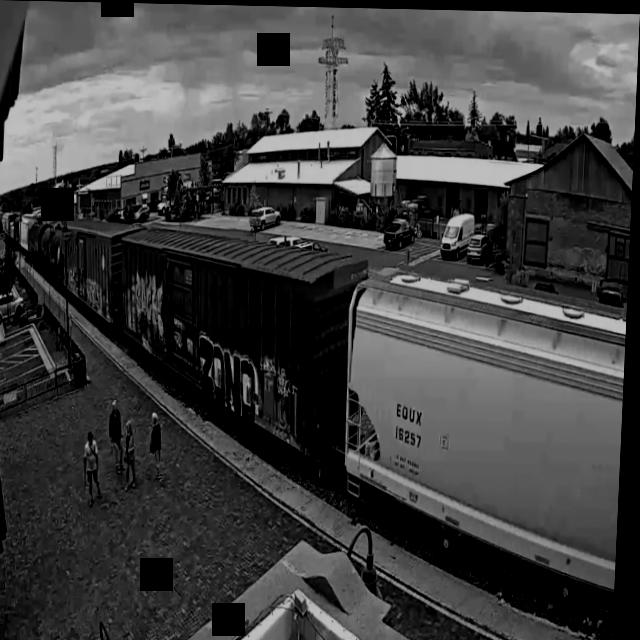boxcar: (113, 215, 376, 473)
hopper: (332, 251, 631, 620)
